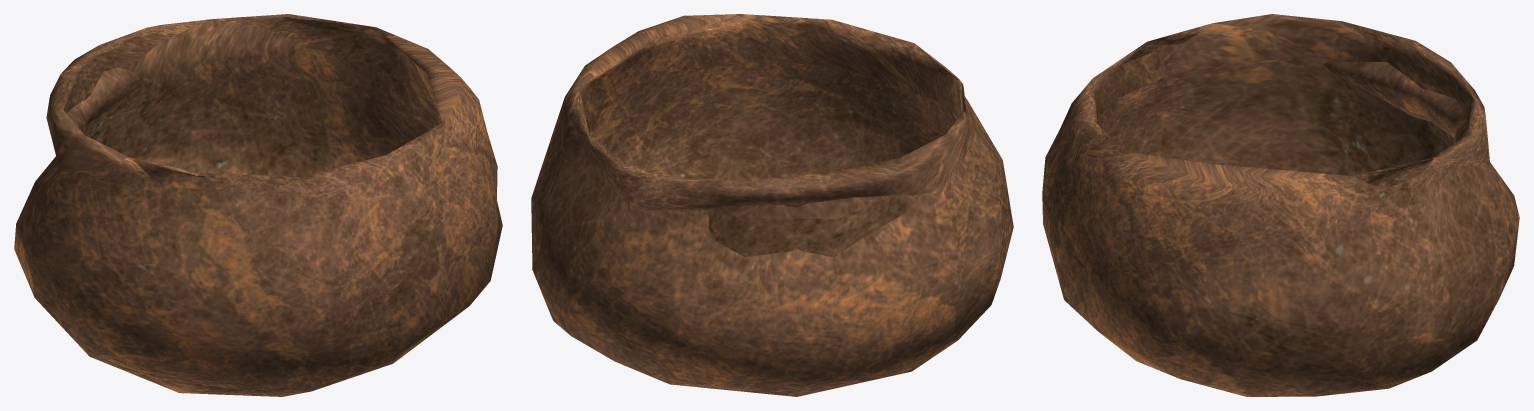
The model's file is pot4.fbx.
The picture shows the model from 3 angles, left to right: view 1: azimuth 30°, elevation 25°; view 2: azimuth 150°, elevation 25°; view 3: azimuth 270°, elevation 25°; orthographic projection.
Visible parts, largest first — view 1: pot4; view 2: pot4; view 3: pot4.
Part boxes in pixels (<box>): pot4: <box>14,14,502,396</box>; pot4: <box>531,14,1013,396</box>; pot4: <box>1042,14,1519,396</box>.
Bounding box in the file's own units: 42.59 × 25.84 × 42.06.
1 material, 1 textured.
